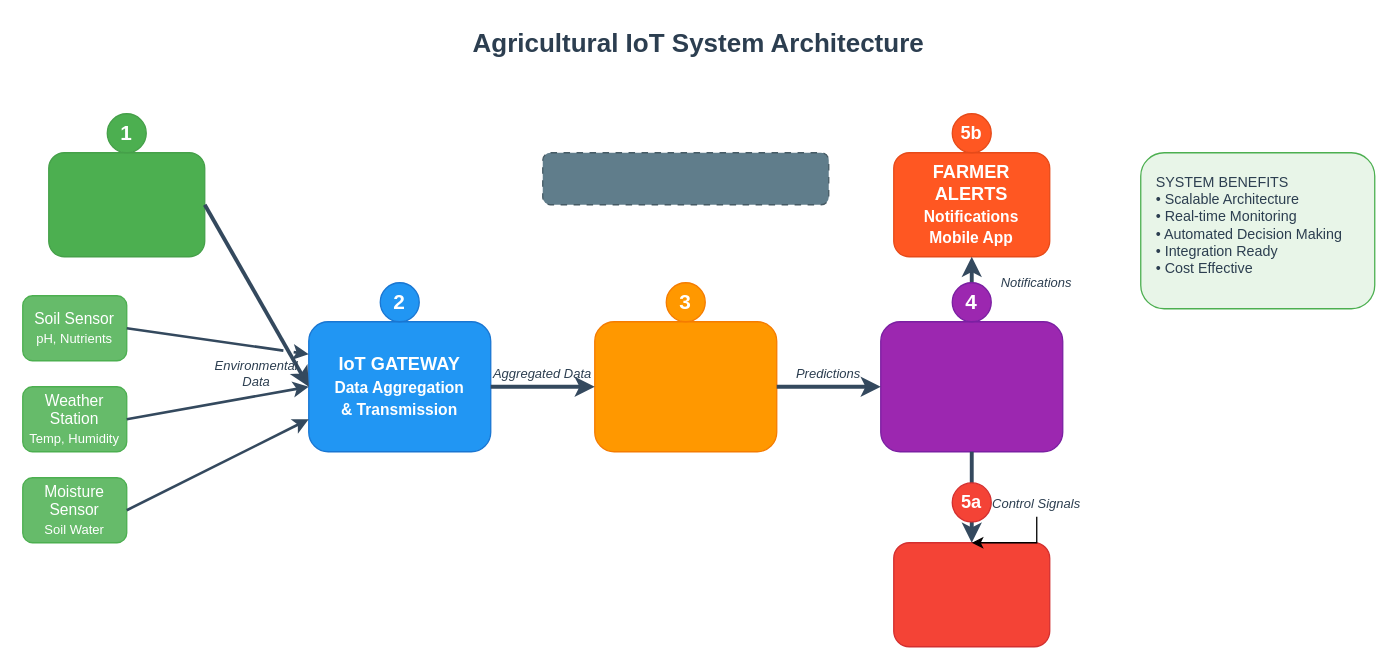
Some shapes in this 1398 by 670 pixel diagram are drawn without their labels. The shapes that lost their labels are listed below. From the top down, each one's box as (x1, y1, x2, y2) in pixels, then its label:
(541, 151, 829, 205): CLOUD/EDGE INFRASTRUCTURE
(47, 151, 205, 257): SENSORS
(593, 320, 777, 452): AI MODEL Edge/Cloud Yield Prediction
(879, 320, 1063, 452): DECISION ENGINE Action Determination
(892, 541, 1050, 647): ACTUATORS Irrigation Pumps Fertilizers
